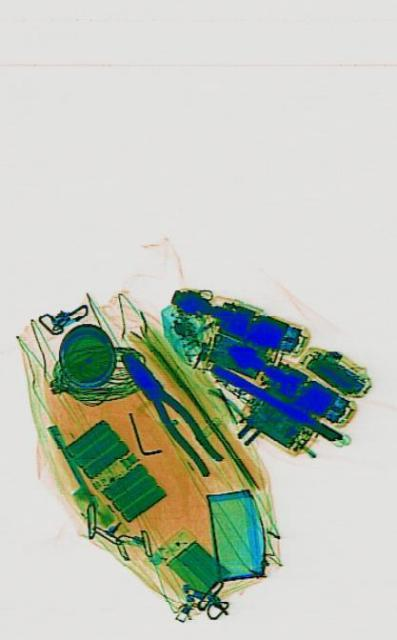Pliers: (113, 336, 222, 484)
